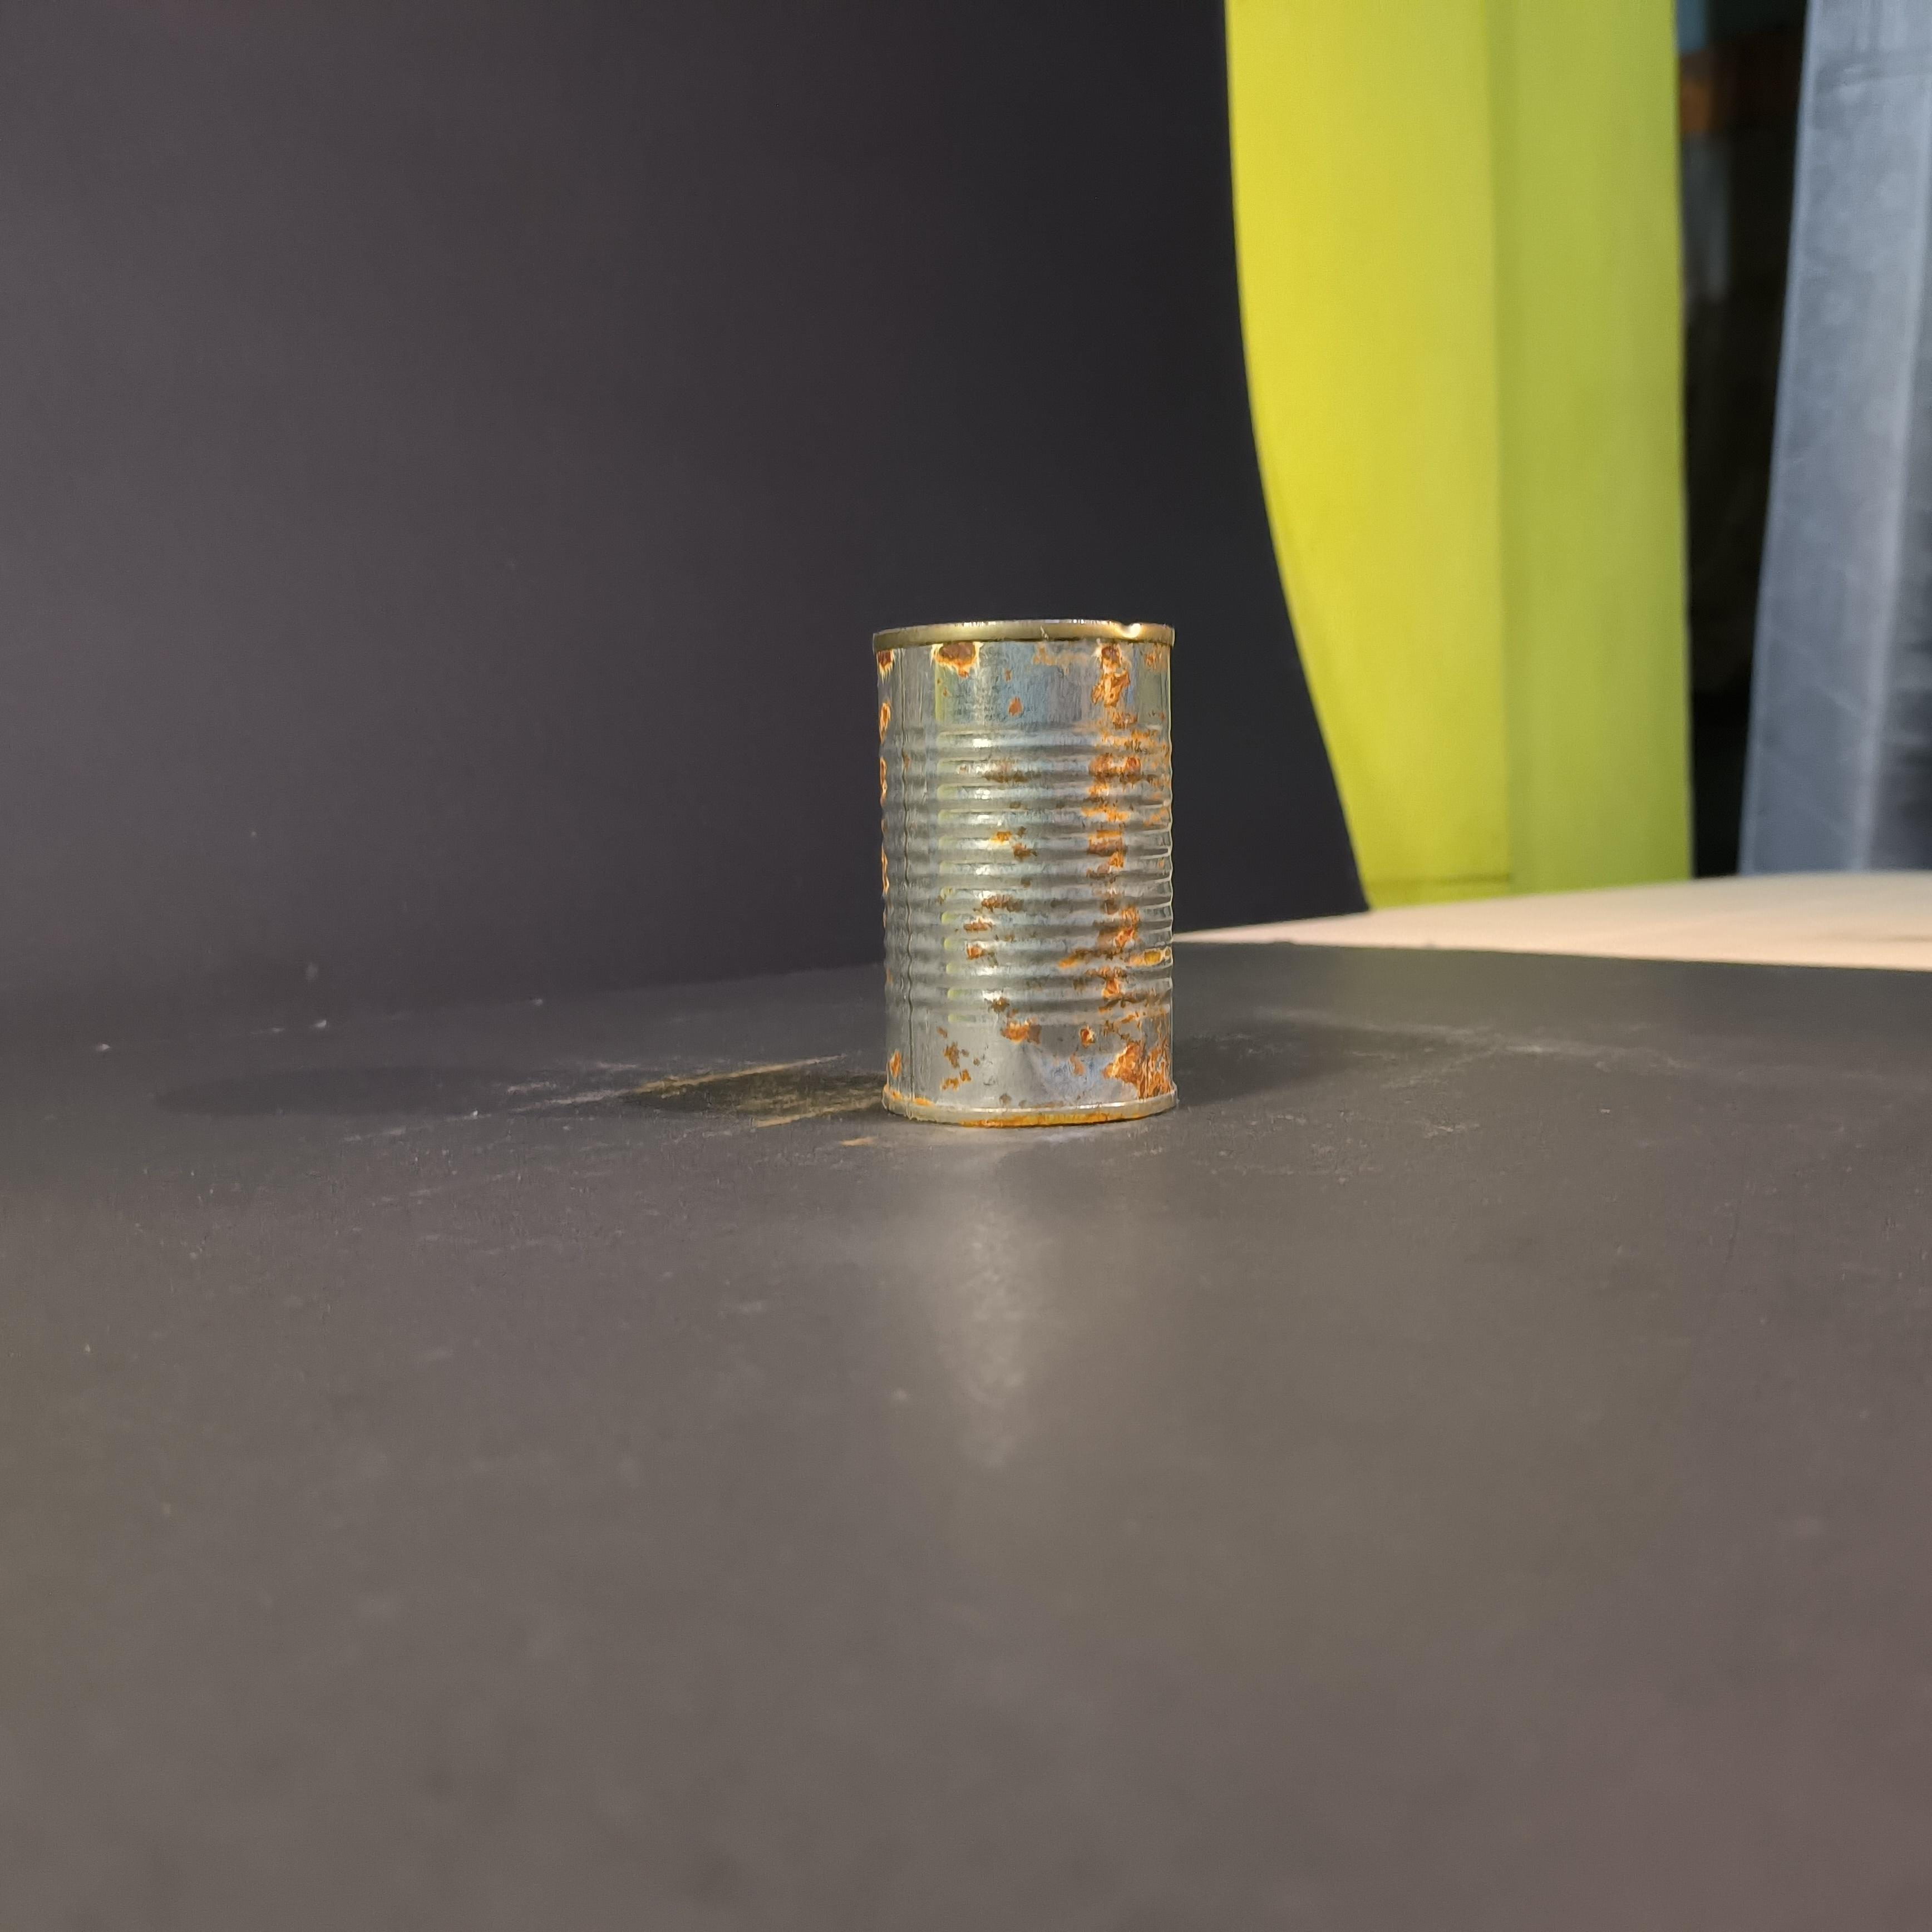Rusted: (851, 589, 1191, 1157)
